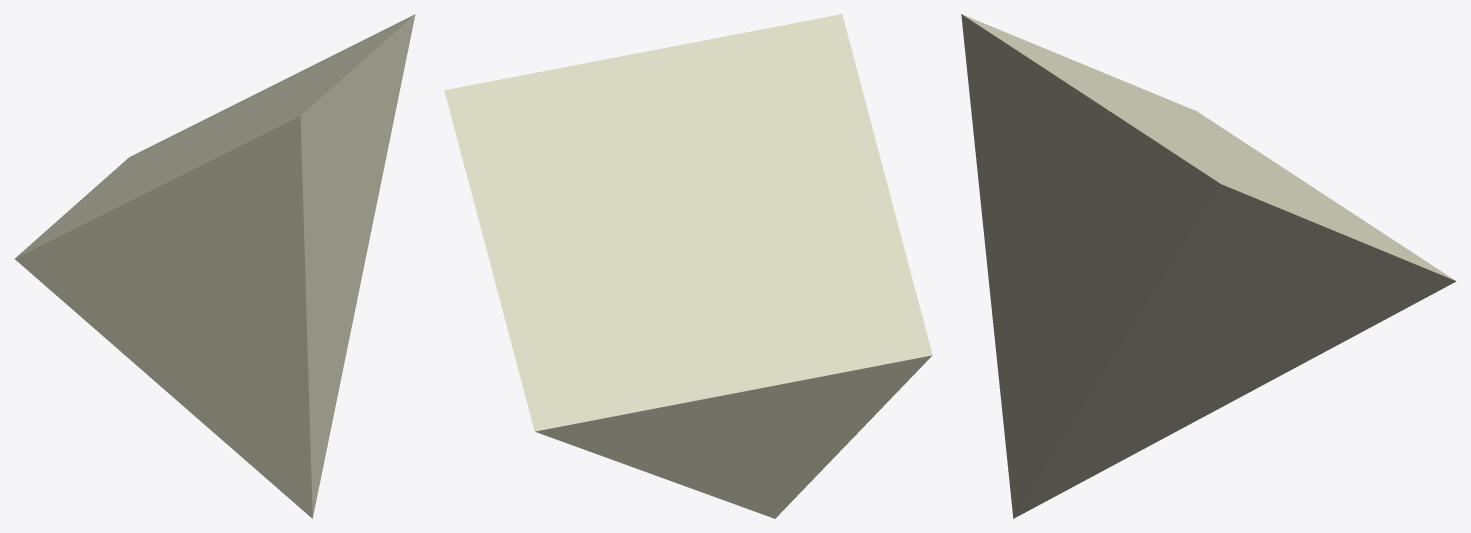
Rendered from pyramid_rot.dae.
3 views of the same model, side by side, from view 1: azimuth 30°, elevation 25°; view 2: azimuth 150°, elevation 25°; view 3: azimuth 270°, elevation 25° (orthographic). The views are drawn at different scales.
Visible parts, largest first — view 1: SketchUp; view 2: SketchUp; view 3: SketchUp.
Boxes of the visible parts, x1,y1,x2,y2 form: SketchUp: (15,14,415,518); SketchUp: (444,14,932,518); SketchUp: (961,14,1456,518).
Size of the model in its own units: 118 by 109 by 118.
